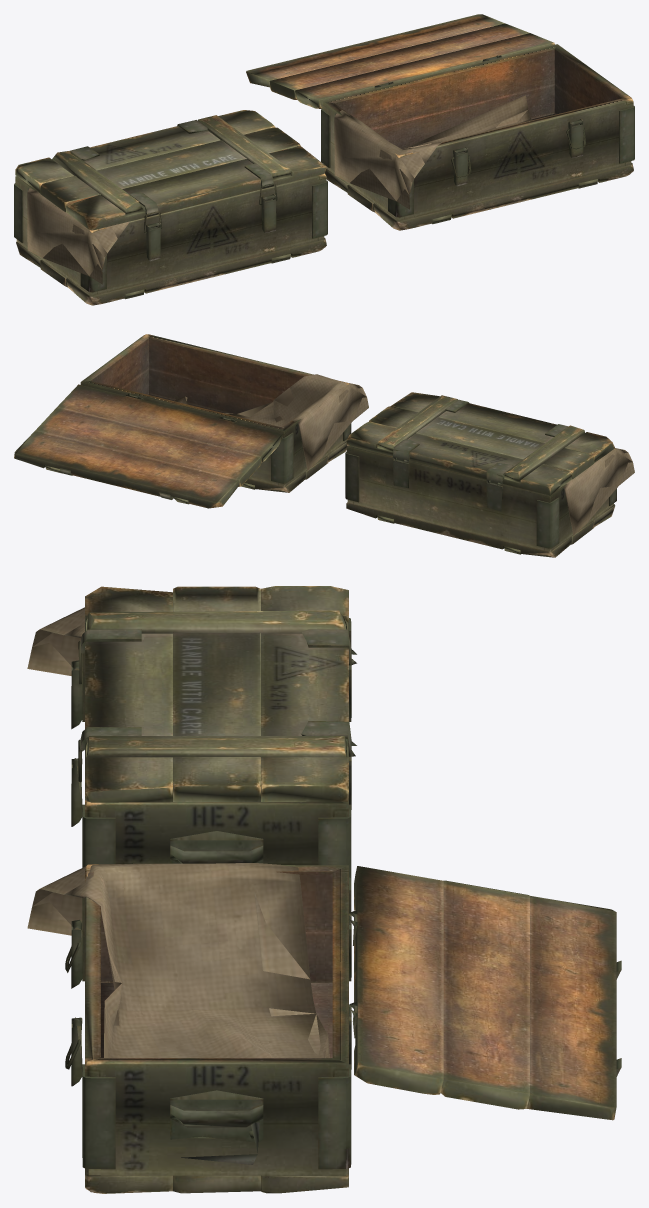
File: crate_military.glb
3 views of the same model, one above another, from view 1: azimuth 30°, elevation 25°; view 2: azimuth 150°, elevation 25°; view 3: azimuth 270°, elevation 25° (orthographic). The views are drawn at different scales.
Visible parts, largest first — view 1: old_military_crate_b, old_military_crate_lid_a, old_military_crate_a, old_military_crate_lid_b, old_military_crate_cloth_b, old_military_crate_cloth_a, old_military_crate_latch_a, old_military_crate_latch_b; view 2: old_military_crate_lid_b, old_military_crate_lid_a, old_military_crate_a, old_military_crate_b, old_military_crate_cloth_b, old_military_crate_cloth_a; view 3: old_military_crate_lid_a, old_military_crate_lid_b, old_military_crate_b, old_military_crate_cloth_b, old_military_crate_a, old_military_crate_cloth_a, old_military_crate_latch_b, old_military_crate_latch_a.
Boxes of the visible parts, x1,y1,x2,y2 form: old_military_crate_b: [321, 44, 634, 230]; old_military_crate_lid_a: [15, 110, 326, 230]; old_military_crate_a: [14, 173, 327, 305]; old_military_crate_lid_b: [246, 14, 554, 108]; old_military_crate_cloth_b: [334, 95, 532, 209]; old_military_crate_cloth_a: [27, 188, 129, 284]; old_military_crate_latch_a: [146, 194, 276, 261]; old_military_crate_latch_b: [453, 119, 583, 186]; old_military_crate_lid_b: [14, 384, 282, 508]; old_military_crate_lid_a: [346, 392, 614, 495]; old_military_crate_a: [345, 445, 616, 557]; old_military_crate_b: [80, 334, 351, 492]; old_military_crate_cloth_b: [173, 374, 368, 470]; old_military_crate_cloth_a: [563, 448, 634, 535]; old_military_crate_lid_a: [79, 586, 356, 802]; old_military_crate_lid_b: [349, 866, 621, 1120]; old_military_crate_b: [82, 864, 351, 1193]; old_military_crate_cloth_b: [27, 863, 329, 1057]; old_military_crate_a: [82, 618, 351, 880]; old_military_crate_cloth_a: [27, 607, 84, 675]; old_military_crate_latch_b: [71, 919, 82, 1086]; old_military_crate_latch_a: [71, 660, 82, 826].
Bounding box in the file's own units: 1.81 × 0.2891 × 0.9677.
1 material, 1 textured.
